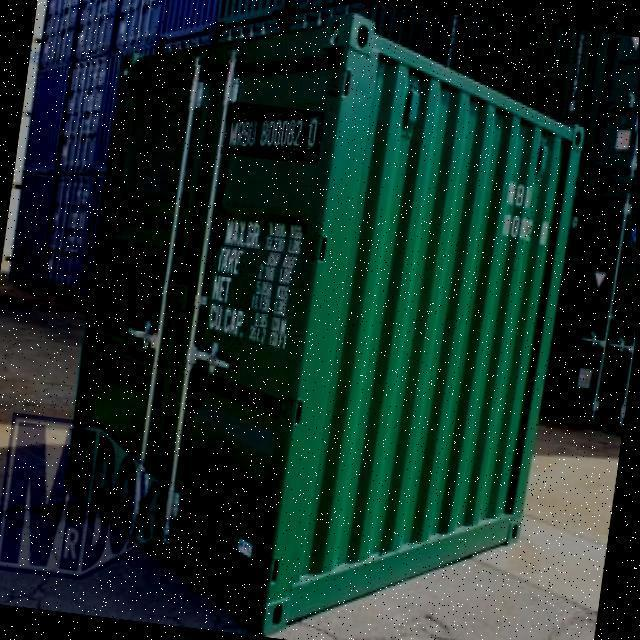container_number_h: (220, 100, 324, 165)
